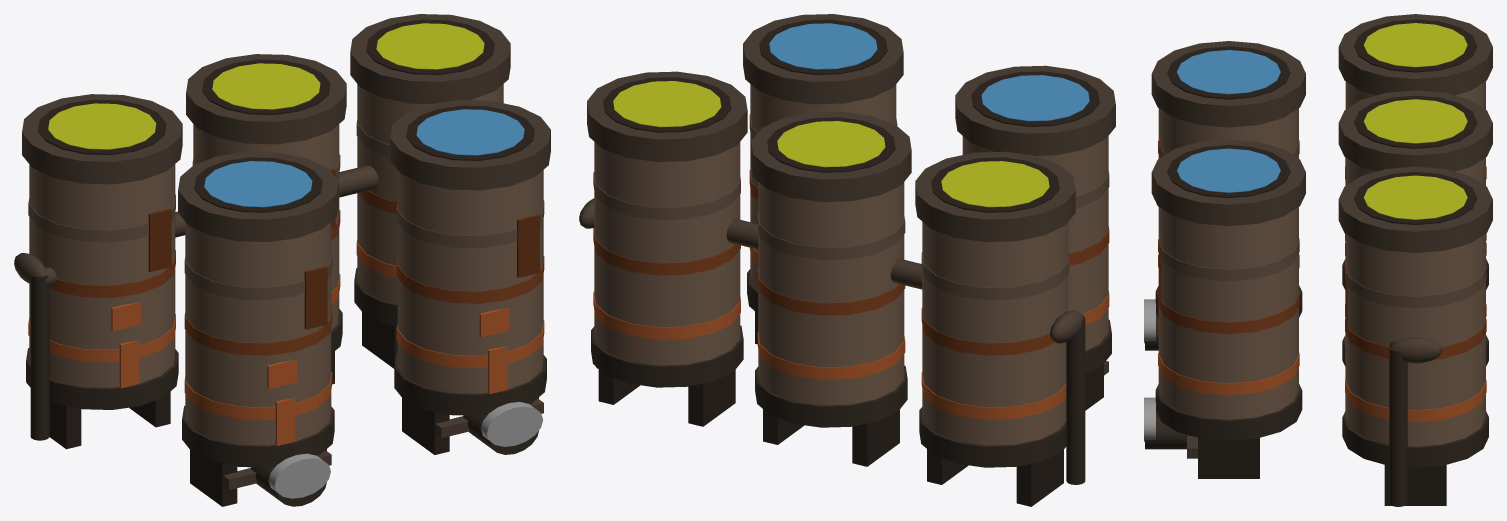
The model's file is CMU3DFiltrationDisinfection.glb.
3 views of the same model, side by side, from view 1: azimuth 30°, elevation 25°; view 2: azimuth 150°, elevation 25°; view 3: azimuth 270°, elevation 25° (orthographic). The views are drawn at different scales.
Parts seen in each view (by area): view 1: front west copper filter vessel, front east copper filter vessel, rear west copper filter vessel, front west thick copper lid rim, front east thick copper lid rim, rear middle thick copper lid rim, rear west thick copper lid rim, rear east copper filter vessel, rear east thick copper lid rim, front west worn circumferential band (×3), front east worn circumferential band (×3), rear west worn circumferential band (×3) (+28 smaller); view 2: rear middle copper filter vessel, rear east copper filter vessel, rear west copper filter vessel, rear middle thick copper lid rim, front east thick copper lid rim, rear west thick copper lid rim, rear east thick copper lid rim, front west thick copper lid rim, front west copper filter vessel, rear middle worn circumferential band (×3), rear east worn circumferential band (×3), rear west worn circumferential band (×3) (+22 smaller); view 3: front east copper filter vessel, rear east copper filter vessel, front west thick copper lid rim, rear east thick copper lid rim, front east thick copper lid rim, rear middle thick copper lid rim, rear west thick copper lid rim, front east worn circumferential band (×3), rear east worn circumferential band (×3), rear middle source colored filter surface, rear west source colored filter surface, rear east source colored filter surface (+18 smaller).
Boxes of the visible parts, x1,y1,x2,y2 form: front west copper filter vessel: [185, 222, 331, 445]; front east copper filter vessel: [397, 170, 543, 393]; rear west copper filter vessel: [29, 164, 175, 387]; front west thick copper lid rim: [178, 151, 338, 241]; front east thick copper lid rim: [390, 100, 550, 190]; rear middle thick copper lid rim: [186, 54, 346, 144]; rear west thick copper lid rim: [22, 94, 182, 184]; rear east copper filter vessel: [357, 84, 503, 303]; rear east thick copper lid rim: [350, 14, 510, 103]; front west worn circumferential band (×3): [184, 252, 332, 419]; front east worn circumferential band (×3): [396, 200, 544, 367]; rear west worn circumferential band (×3): [28, 194, 175, 362]; rear middle copper filter vessel: [758, 182, 904, 405]; rear east copper filter vessel: [594, 142, 740, 365]; rear west copper filter vessel: [922, 222, 1068, 445]; rear middle thick copper lid rim: [751, 111, 911, 201]; front east thick copper lid rim: [743, 14, 903, 104]; rear west thick copper lid rim: [915, 151, 1075, 241]; rear east thick copper lid rim: [587, 71, 747, 161]; front west thick copper lid rim: [955, 65, 1115, 155]; front west copper filter vessel: [962, 136, 1108, 350]; rear middle worn circumferential band (×3): [757, 212, 905, 379]; rear east worn circumferential band (×3): [593, 172, 740, 339]; rear west worn circumferential band (×3): [921, 252, 1069, 419]; front east copper filter vessel: [1158, 207, 1298, 419]; rear east copper filter vessel: [1345, 234, 1485, 446]; front west thick copper lid rim: [1151, 41, 1305, 127]; rear east thick copper lid rim: [1338, 166, 1492, 252]; front east thick copper lid rim: [1151, 139, 1305, 226]; rear middle thick copper lid rim: [1338, 90, 1492, 171]; rear west thick copper lid rim: [1338, 14, 1492, 95]; front east worn circumferential band (×3): [1158, 238, 1299, 395]; rear east worn circumferential band (×3): [1345, 266, 1486, 422]; rear middle source colored filter surface: [1363, 99, 1467, 143]; rear west source colored filter surface: [1363, 23, 1467, 67]; rear east source colored filter surface: [1363, 175, 1467, 219].
Size of the model in its own units: 2.96 by 1.72 by 1.91.
